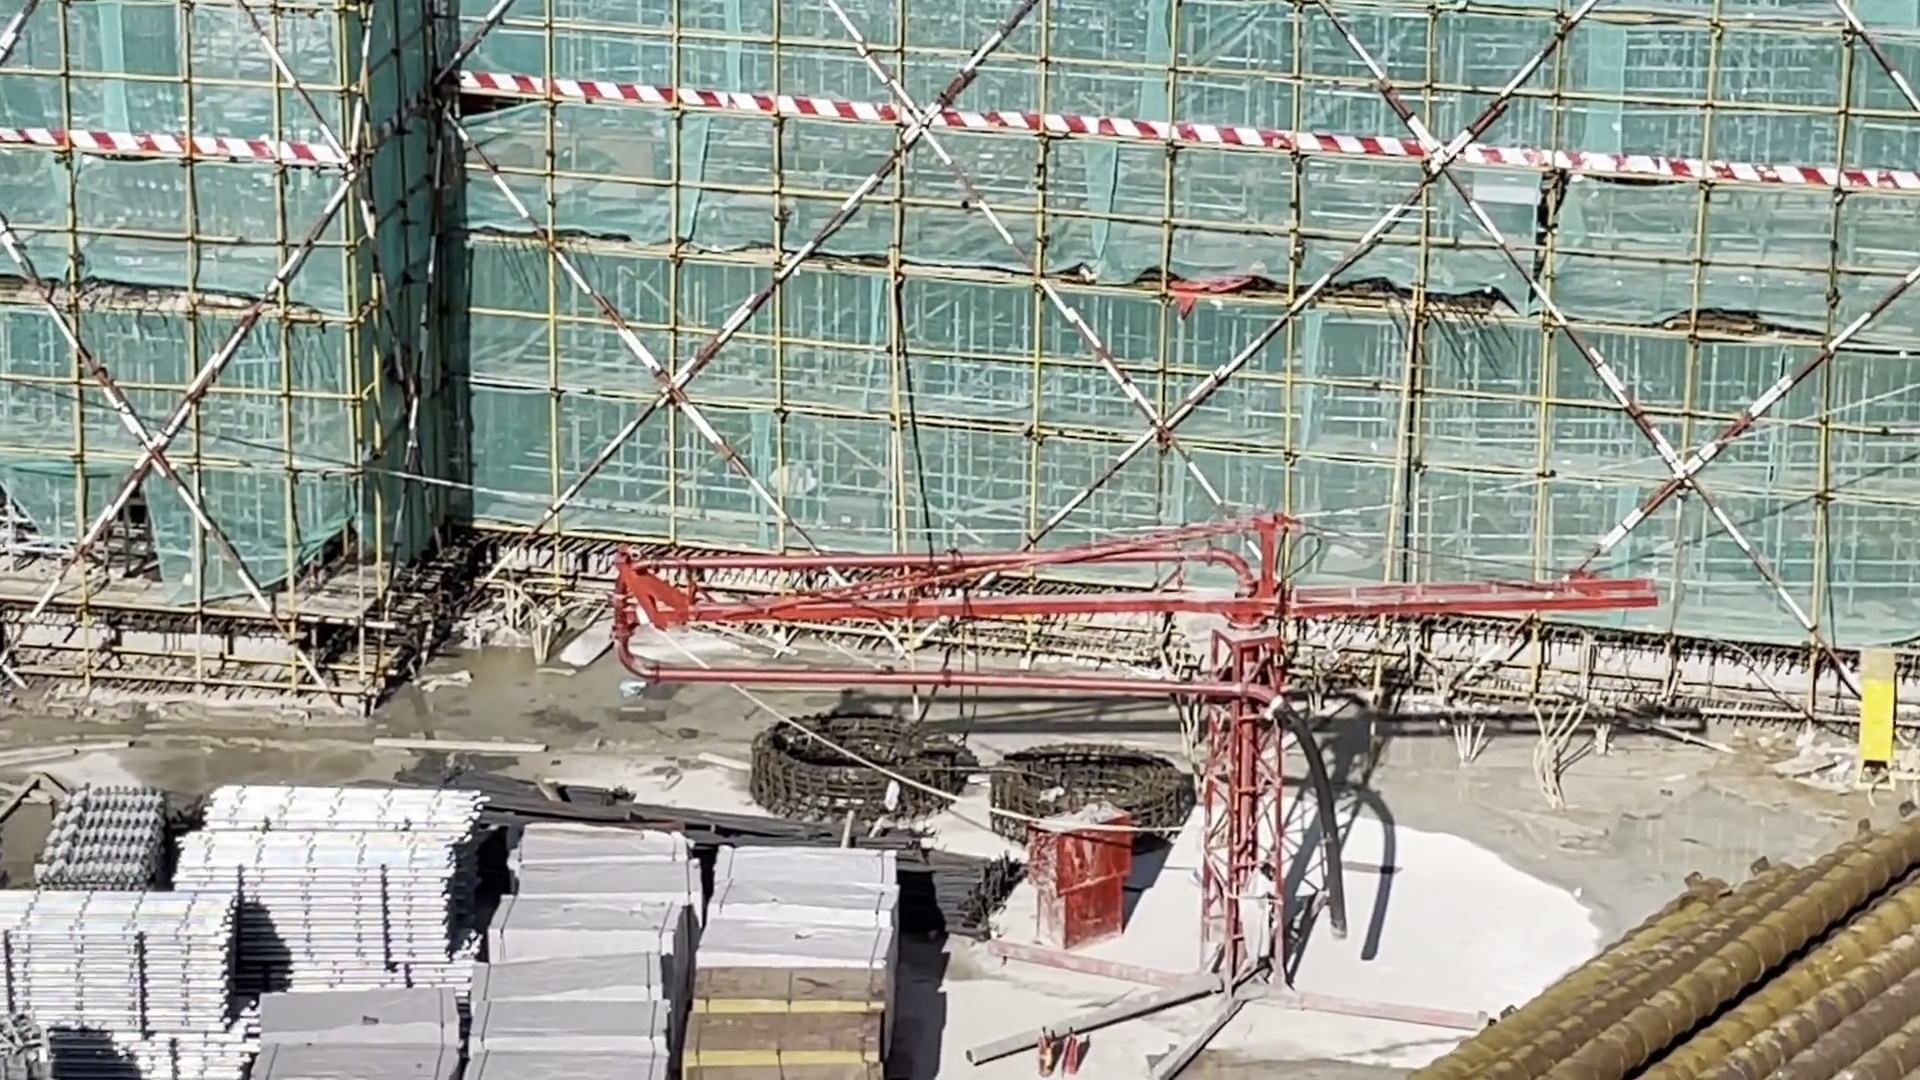ebox: (1837, 626, 1908, 764)
rebar: (1389, 822, 1920, 1076), (444, 756, 795, 840), (927, 837, 997, 928)
scaffold: (204, 771, 451, 959), (15, 891, 251, 1076), (33, 781, 189, 899)
